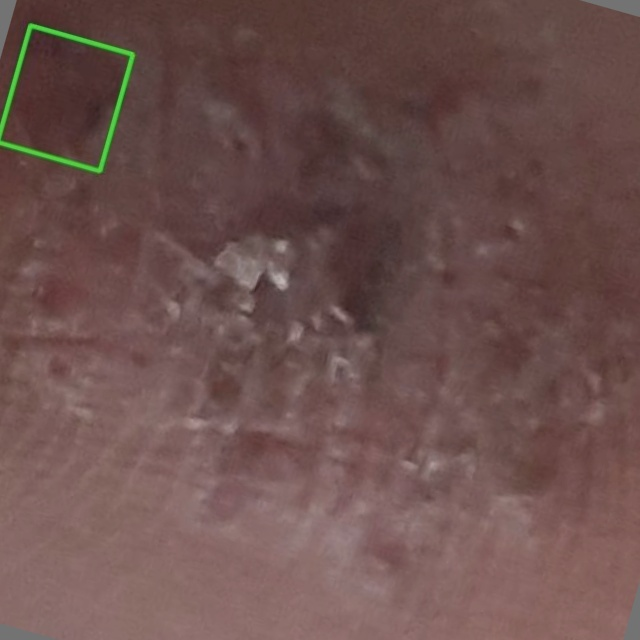Contact Dermatitis: (0, 25, 133, 171)
